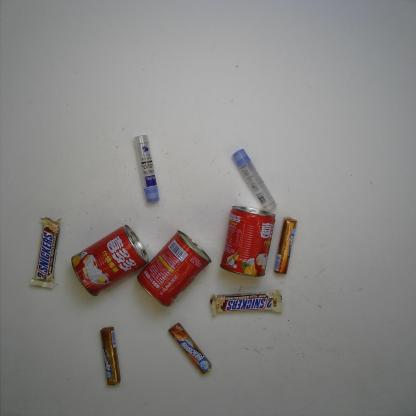Candy: (168, 322, 212, 374), (273, 216, 299, 275), (98, 326, 122, 386)
Canned Food: (136, 230, 212, 308), (70, 224, 150, 297), (219, 204, 276, 278)
Chocolate: (29, 217, 62, 289), (209, 288, 284, 318)
Stationery: (232, 148, 278, 213), (133, 133, 161, 204)
